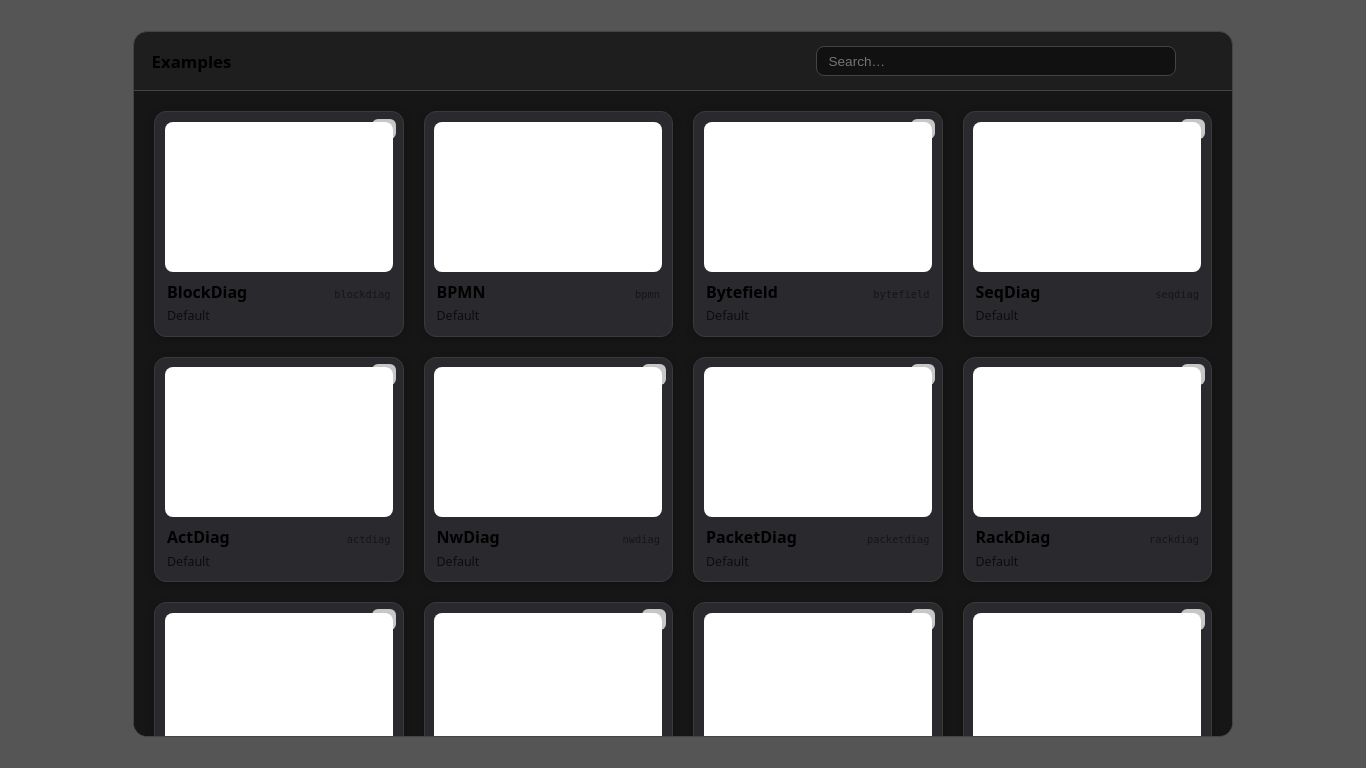
it: examplesDialog › filters cards by search query
Type "mermaid" into the field with class "search". click: coordinates (996, 61)
box: [816, 46, 1176, 76]
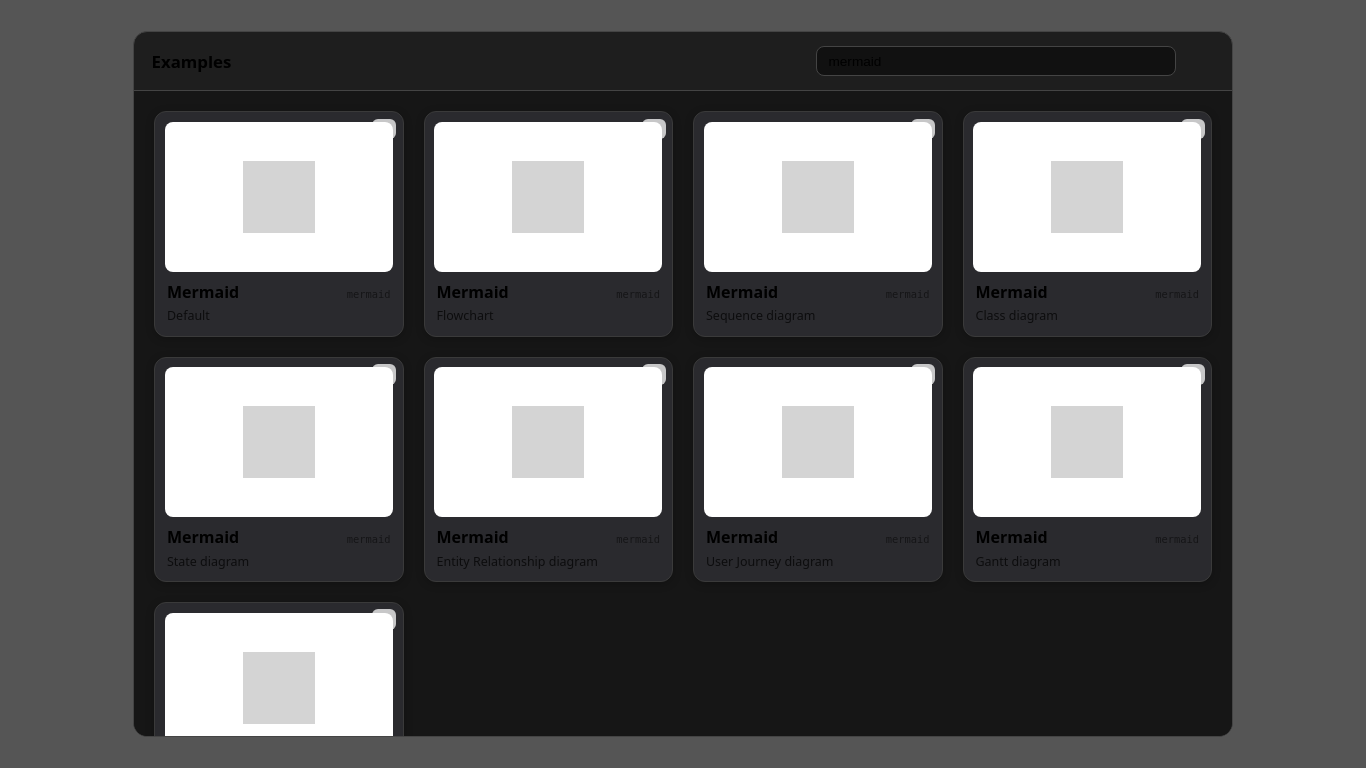
Expected: the button "Mermaid mermaid Default" is shown, [154, 111, 404, 337]
